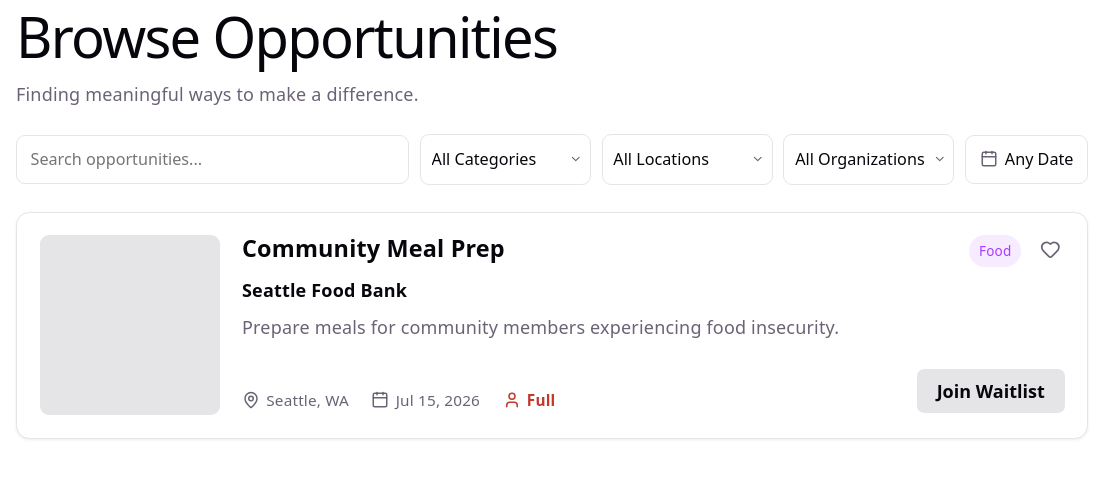
OpportunitiesPage › joins the waitlist for a full opportunity when Join Waitlist is clicked
Check: the heading "Community Meal Prep" is shown, box [242,235,505,261]
Click the button "Join Waitlist" at (991, 391), box [917,369,1064,413]
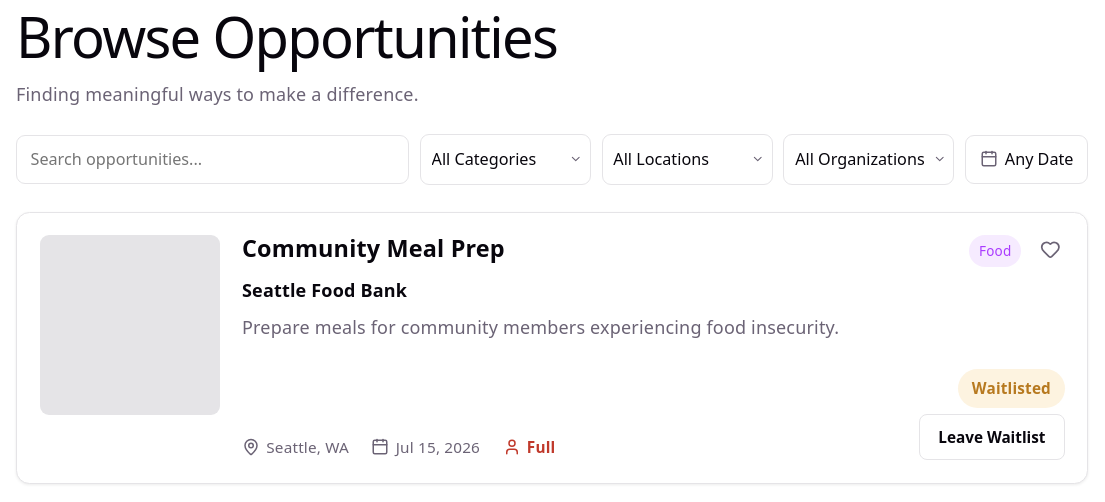
Check: the button "Leave Waitlist" is shown, box [919,414,1065,460]
